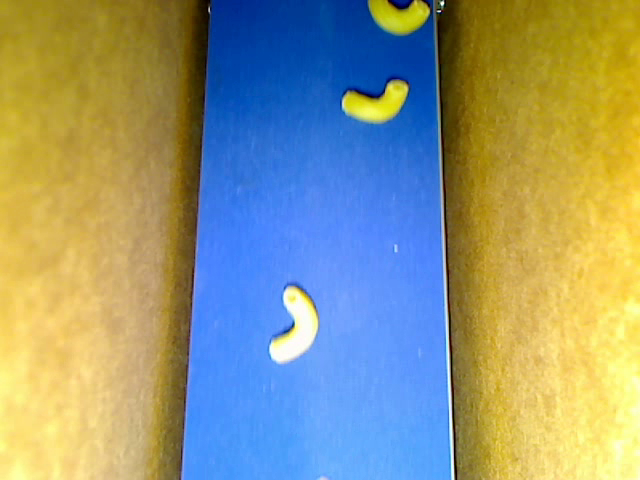elbow: (267, 284, 319, 366), (340, 77, 408, 125), (367, 1, 430, 37)
